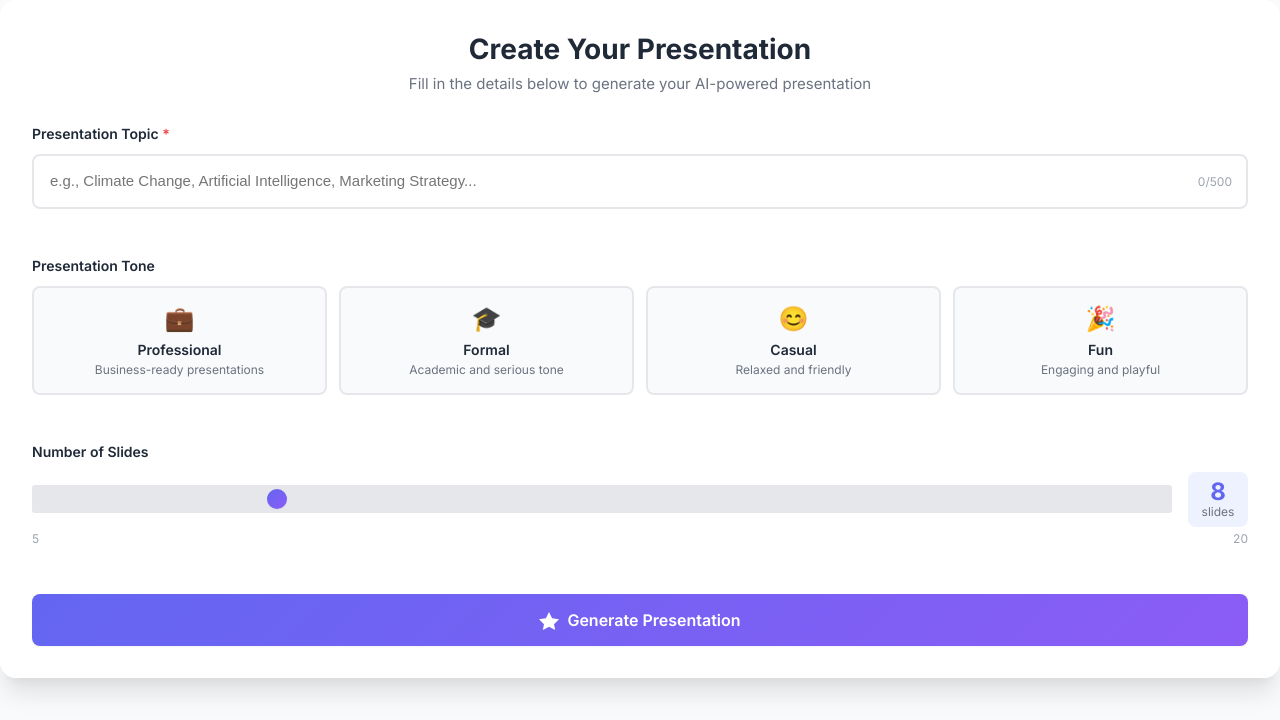
Test: PromptForm Component › displays error message on submission failure
Replace the text in the field labelled "Presentation Topic *" with "Test Topic" at (640, 181), box [32,154,1248,208]
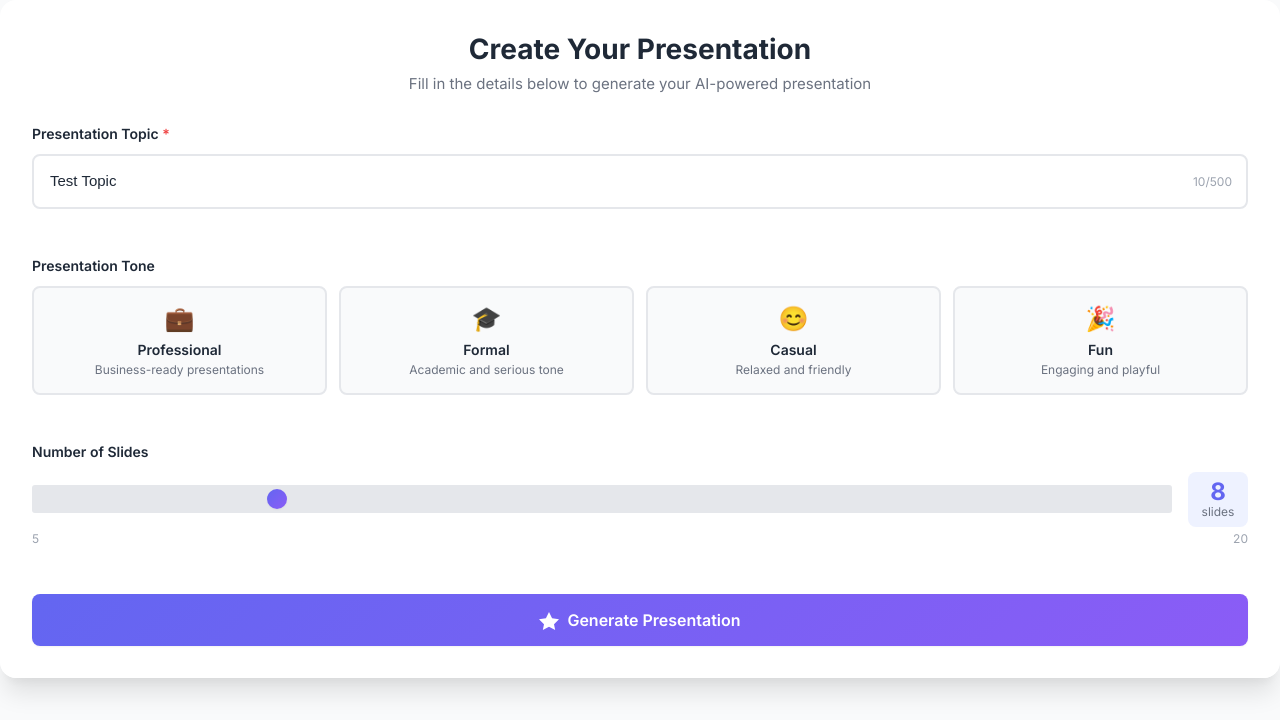
Click the button "Generate Presentation" at (640, 620), box [32,594,1248,646]
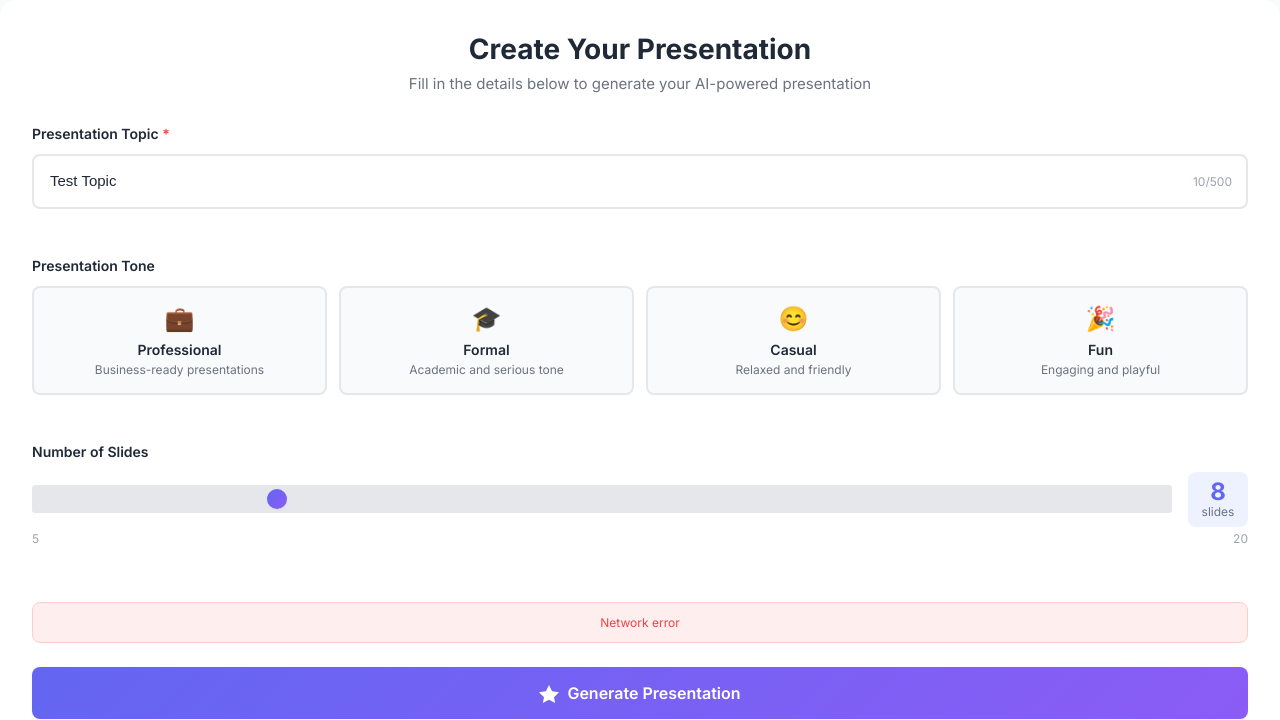
Check: the text "Network error" is shown, box [32,602,1248,642]
